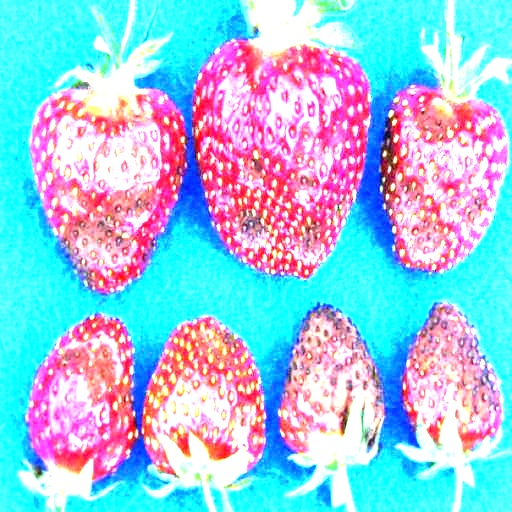Anthracnose Fruit Rot: (192, 41, 370, 279), (54, 95, 187, 297), (380, 91, 495, 273), (280, 300, 386, 437), (400, 299, 503, 437), (188, 316, 263, 450), (46, 332, 123, 412)
